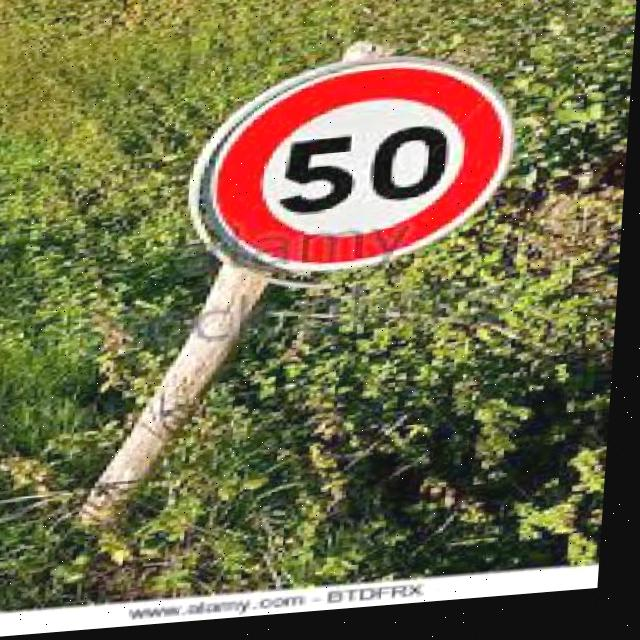Speed limit 50: (185, 49, 524, 296)
